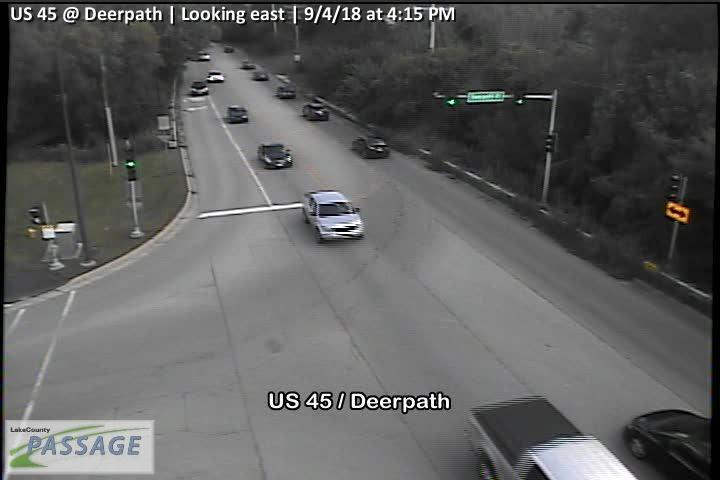SUV: (300, 188, 366, 244), (256, 142, 293, 170), (301, 100, 330, 122), (226, 104, 248, 123), (276, 83, 297, 99), (207, 70, 225, 84), (195, 50, 211, 61), (223, 43, 234, 54)
Sedan: (624, 407, 714, 480), (351, 135, 392, 159), (189, 79, 209, 95), (253, 71, 269, 81), (241, 59, 256, 69)
Truck: (463, 393, 640, 480)
